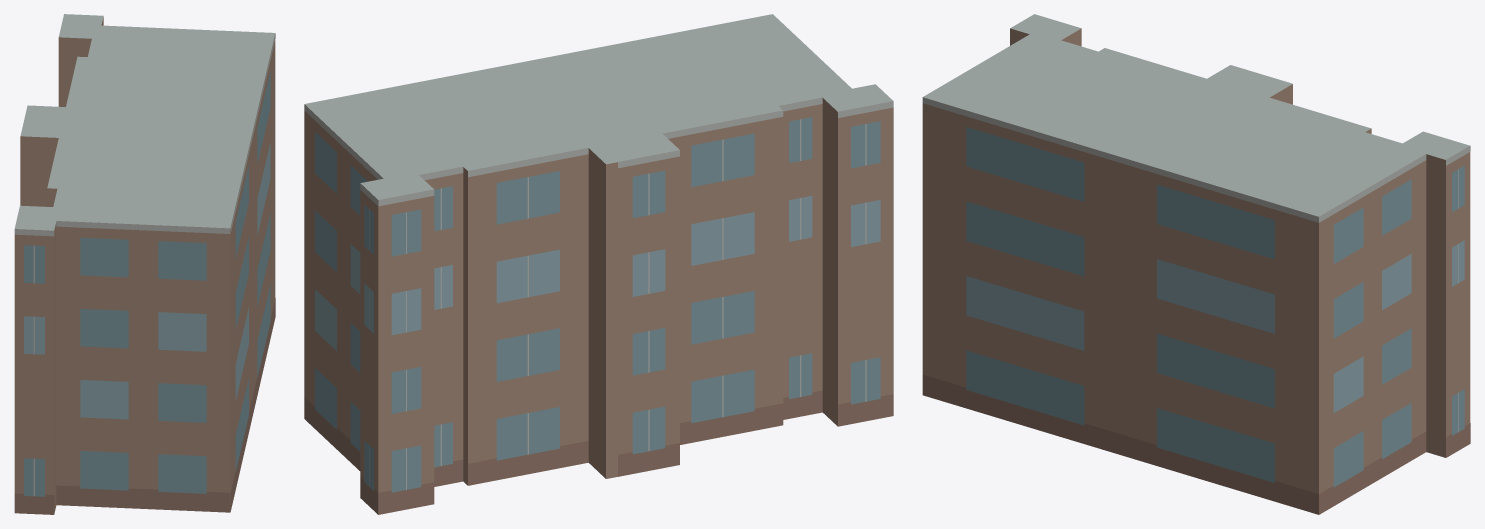
File: survey-upis-32619567.glb
The picture shows the model from 3 angles, left to right: view 1: azimuth 30°, elevation 25°; view 2: azimuth 150°, elevation 25°; view 3: azimuth 270°, elevation 25°; orthographic projection. The views are drawn at different scales.
Visible parts, largest first — view 1: survey-upis-32619567.tmp; view 2: survey-upis-32619567.tmp; view 3: survey-upis-32619567.tmp.
Part boxes in pixels (box(x1,y1,x2,y2)): survey-upis-32619567.tmp: box(14, 14, 275, 514); survey-upis-32619567.tmp: box(304, 14, 893, 514); survey-upis-32619567.tmp: box(922, 14, 1470, 514).
Size of the model in its own units: 17.82 by 12.2 by 20.33.
